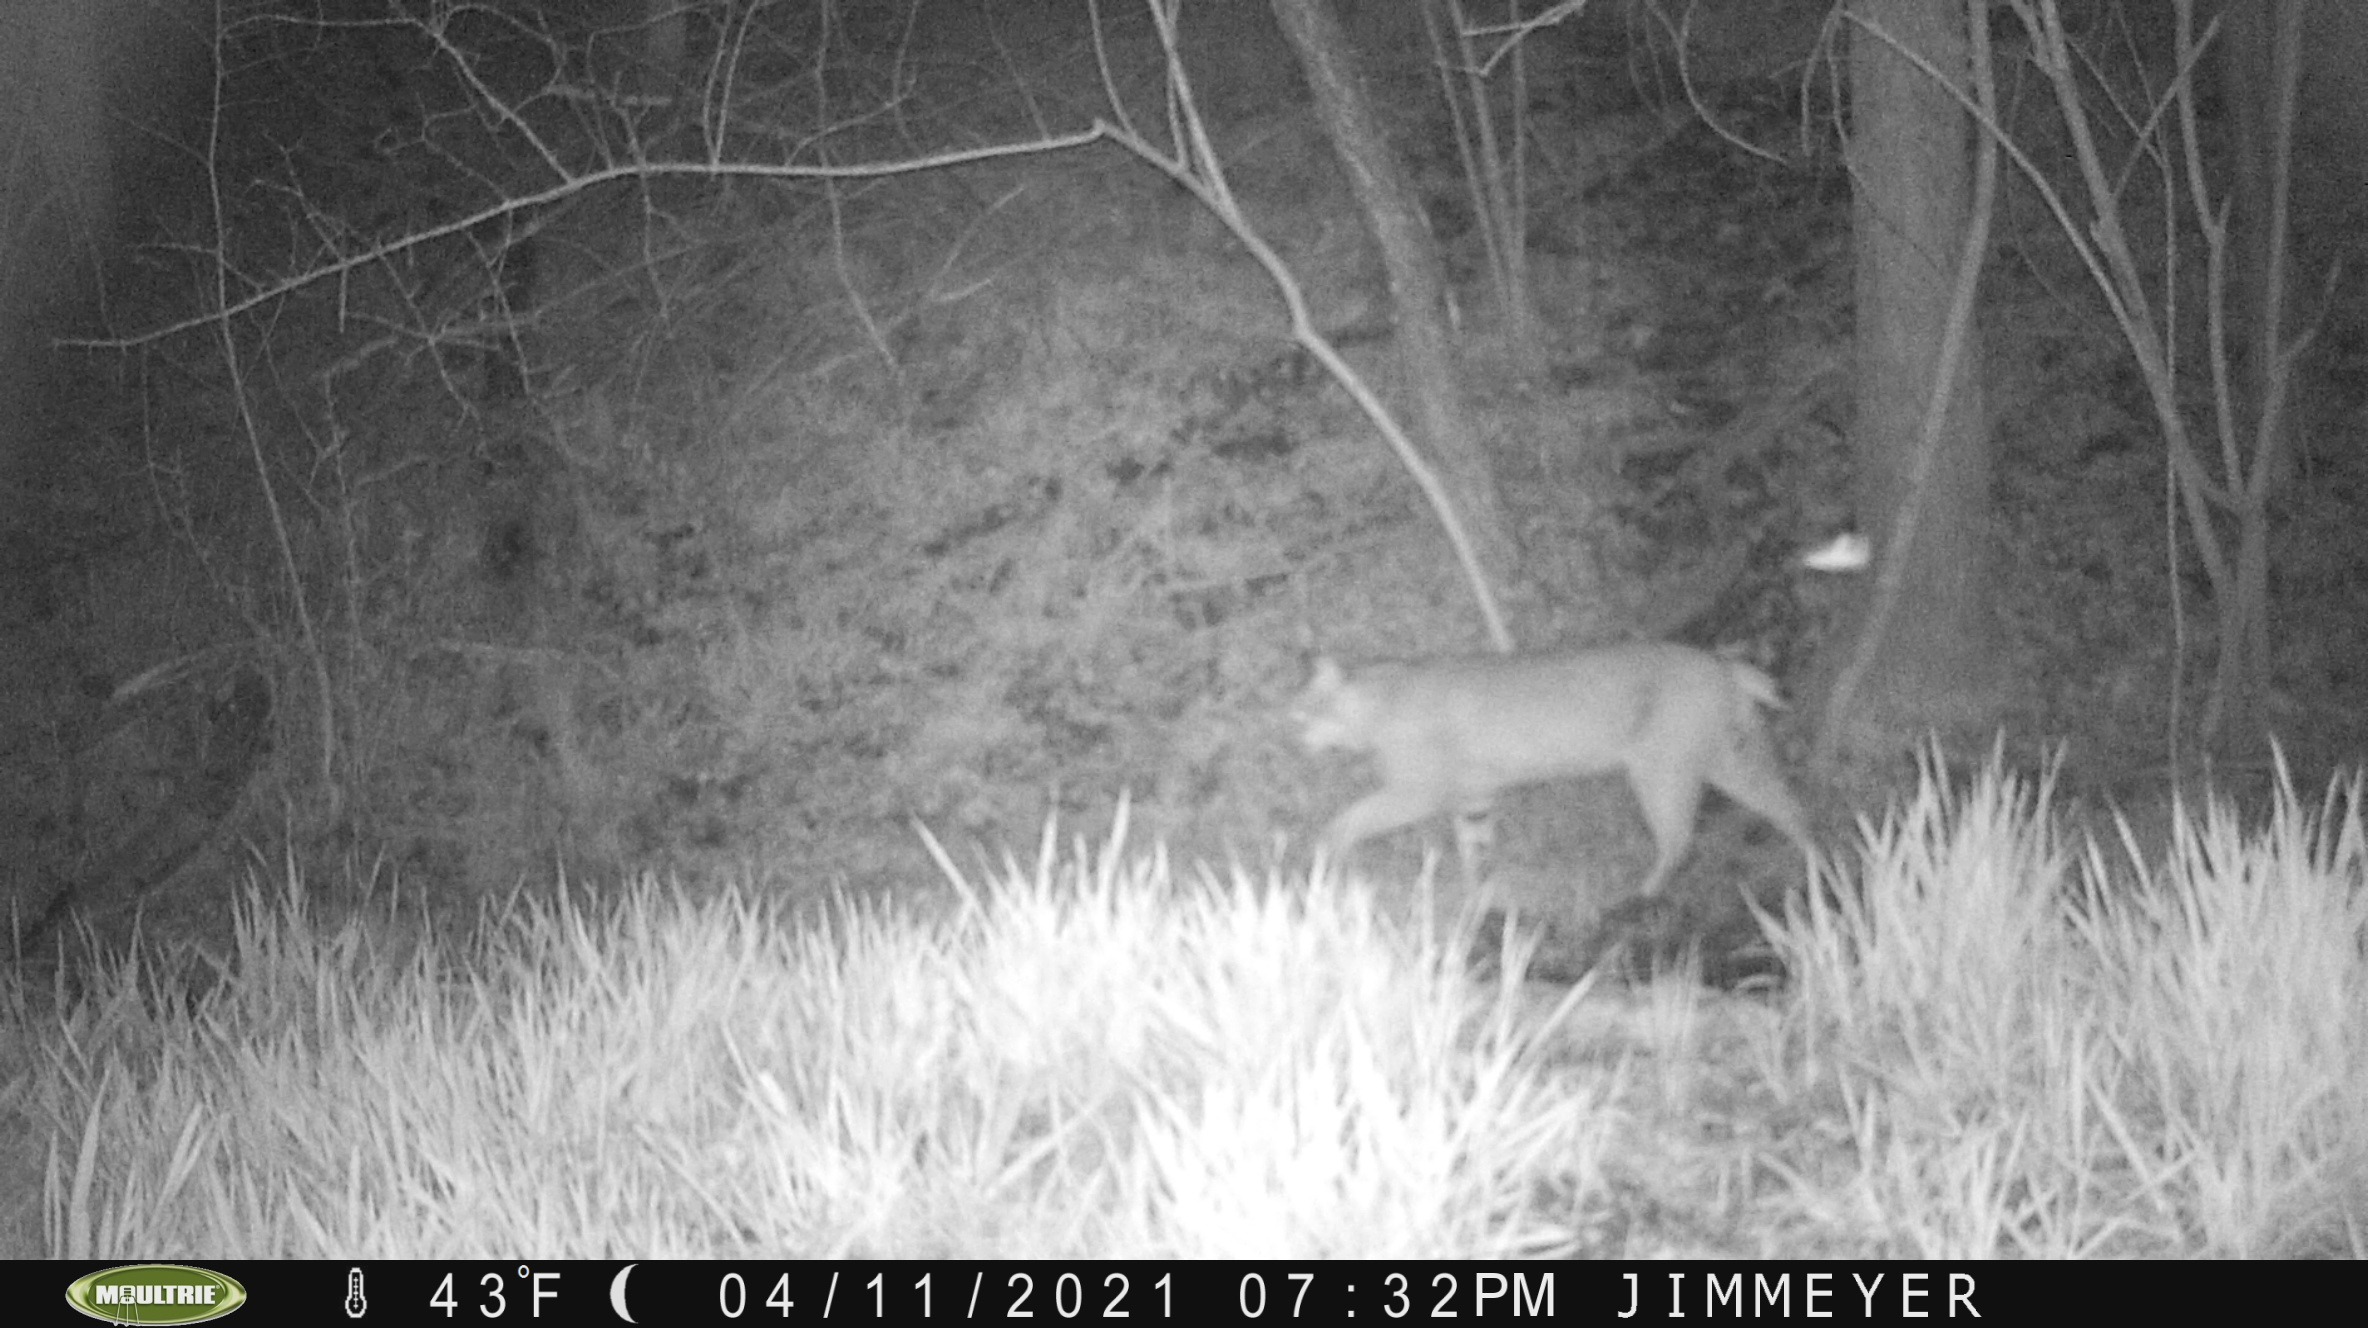Bobcat: (1277, 639, 1828, 891)
